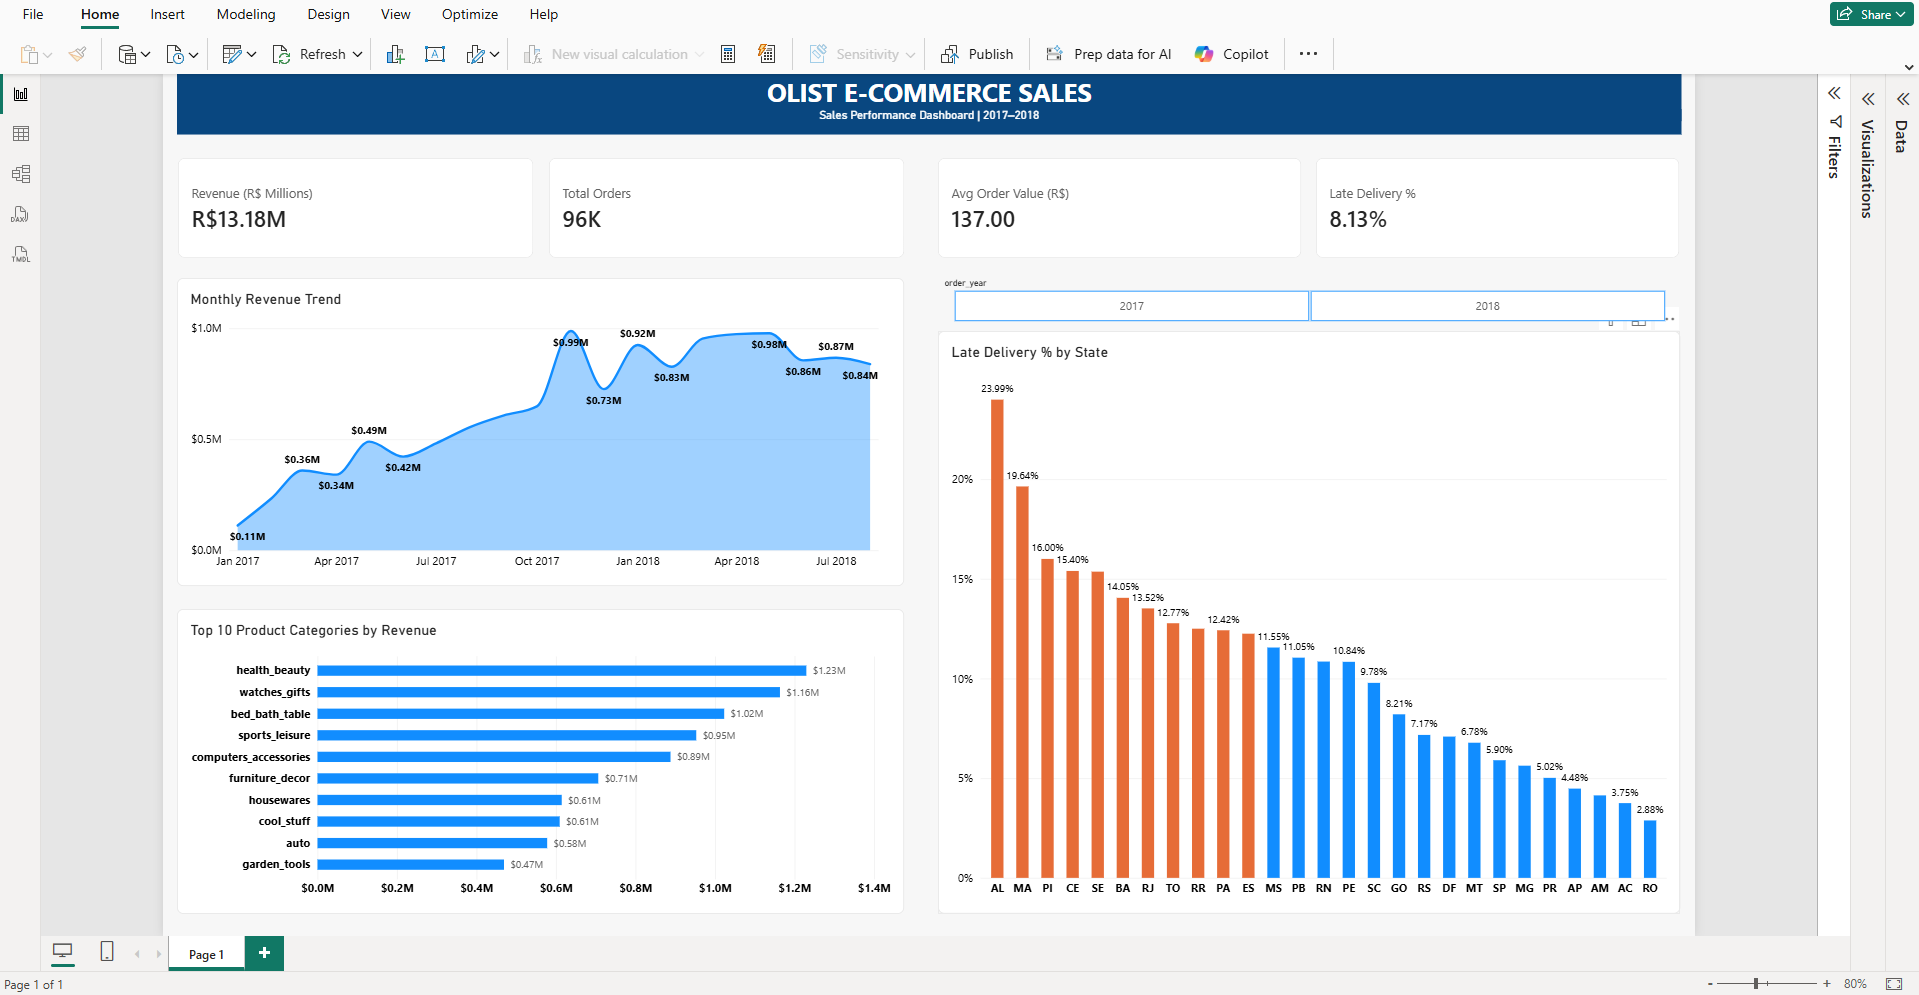

The page's visual inventory and layout, read from the dashboard file:
{"tool":"powerbi","page":{"name":"Page 1","canvas":[1920,1080],"ordinal":0},"visuals":[{"type":"cardVisual","title":"Revenue (R$ Millions)","fields":{"Data":["olist_order_detail.Revenue Card"]},"box":[18.4,105.1,445,125],"z":0},{"type":"cardVisual","fields":{"Data":["olist_order_detail.Total Orders"]},"box":[483.3,105.1,445,125],"z":1000},{"type":"cardVisual","fields":{"Data":["olist_order_detail.Avg Order Value"]},"box":[970.5,105.1,455.2,125],"z":2000},{"type":"cardVisual","fields":{"Data":["olist_order_detail.Late Delivery %"]},"box":[1444.6,105.1,455.2,125],"z":3000},{"type":"lineChart","title":"Monthly Revenue Trend","fields":{"Category":["olist_order_detail.order_month"],"Y":["olist_order_detail.Total Revenue"]},"box":[17.1,256.1,911.4,386.1],"z":4000},{"type":"clusteredBarChart","title":"Top 10 Product Categories by Revenue","fields":{"Category":["olist_order_detail.category"],"Y":["olist_order_detail.Total Revenue"]},"box":[17.1,669.8,911.4,382.2],"z":5000},{"type":"textbox","title":"OLIST E-COMMERCE SALES","box":[17.5,0,1885,86.1],"z":6000},{"type":"textbox","title":"Sales Performance Dashboard | 2017–2018","box":[17.5,43.8,1885,106.5],"z":7000},{"type":"clusteredColumnChart","title":"Late Delivery % by State","fields":{"Category":["olist_order_detail.customer_state"],"Y":["olist_order_detail.Late Delivery %"]},"box":[970.5,321.8,929.8,730.2],"z":8000},{"type":"slicer","fields":{"Values":["olist_order_detail.order_year"]},"box":[970.5,256.1,929.8,56.5],"z":9000}]}

Visuals, with their boxes on the page's 1920x1080 design canvas (x1, y1, x2, y2). These are canvas units, not pixel positions in the 1919x995 screenshot, which may show the page scaled, cropped or inside an application window:
"Revenue (R$ Millions)" cardVisual: (x1=18, y1=105, x2=463, y2=230)
cardVisual - olist_order_detail.Total Orders: (x1=483, y1=105, x2=928, y2=230)
cardVisual - olist_order_detail.Avg Order Value: (x1=970, y1=105, x2=1426, y2=230)
cardVisual - olist_order_detail.Late Delivery %: (x1=1445, y1=105, x2=1900, y2=230)
"Monthly Revenue Trend" lineChart: (x1=17, y1=256, x2=928, y2=642)
"Top 10 Product Categories by Revenue" clusteredBarChart: (x1=17, y1=670, x2=928, y2=1052)
"OLIST E-COMMERCE SALES" textbox: (x1=18, y1=0, x2=1902, y2=86)
"Sales Performance Dashboard | 2017–2018" textbox: (x1=18, y1=44, x2=1902, y2=150)
"Late Delivery % by State" clusteredColumnChart: (x1=970, y1=322, x2=1900, y2=1052)
slicer - olist_order_detail.order_year: (x1=970, y1=256, x2=1900, y2=313)
